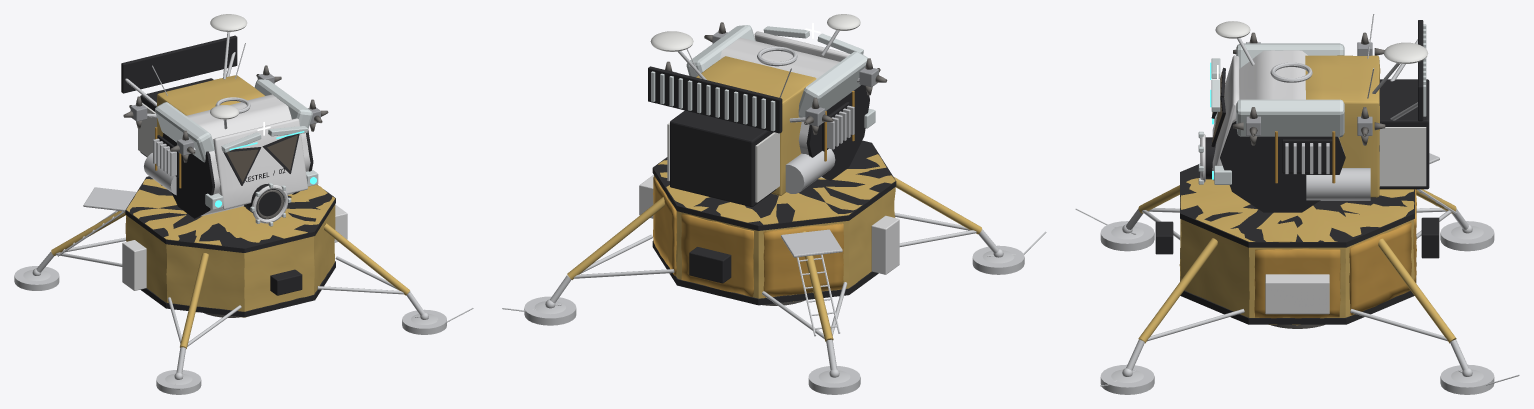
Rendered from kestrel.glb.
3 views of the same model, side by side, from view 1: azimuth 30°, elevation 25°; view 2: azimuth 150°, elevation 25°; view 3: azimuth 270°, elevation 25° (orthographic). The views are drawn at different scales.
Parts seen in each view (by area): view 1: descent_core, front_face, descent_band_top, radiator_rack, crew_cylinder, midsection, crew_endcap_-1, ceramic_shoulder_-1, descent_band_bottom, descent_water_tank, porch, ceramic_shoulder_1 (+14 smaller); view 2: descent_core, aft_bay, descent_band_top, midsection, descent_blanket_3, descent_blanket_2, radiator_rack, crew_cylinder, ceramic_shoulder_-1, crew_endcap_-1, descent_blanket_1, descent_water_tank (+16 smaller); view 3: descent_core, midsection, crew_endcap_+1, descent_band_top, descent_blanket_1, ceramic_shoulder_1, descent_blanket_0, aft_radiator_+1, crew_cylinder, descent_pallet, aft_bay, rcs_tank_+1 (+19 smaller).
Boxes of the visible parts, x1,y1,x2,y2 form: descent_core: [126, 179, 335, 317]; front_face: [213, 118, 307, 209]; descent_band_top: [125, 176, 335, 252]; radiator_rack: [121, 35, 237, 93]; crew_cylinder: [186, 94, 310, 216]; midsection: [157, 75, 264, 136]; crew_endcap_-1: [162, 133, 214, 218]; ceramic_shoulder_-1: [155, 102, 214, 162]; descent_band_bottom: [140, 261, 335, 317]; descent_water_tank: [122, 240, 146, 290]; porch: [83, 187, 136, 211]; ceramic_shoulder_1: [254, 79, 312, 129]; descent_core: [654, 154, 895, 301]; aft_bay: [670, 110, 776, 206]; descent_band_top: [652, 140, 896, 230]; midsection: [696, 56, 816, 195]; descent_blanket_3: [763, 223, 843, 297]; descent_blanket_2: [681, 213, 753, 296]; radiator_rack: [648, 66, 782, 133]; crew_cylinder: [719, 37, 839, 178]; ceramic_shoulder_-1: [798, 51, 867, 117]; crew_endcap_-1: [806, 85, 869, 180]; descent_blanket_1: [653, 177, 676, 275]; descent_water_tank: [871, 215, 899, 274]; descent_core: [1179, 178, 1414, 325]; midsection: [1305, 55, 1380, 197]; crew_endcap_+1: [1220, 121, 1345, 212]; descent_band_top: [1180, 164, 1414, 247]; descent_blanket_1: [1349, 222, 1411, 315]; ceramic_shoulder_1: [1236, 99, 1344, 137]; descent_blanket_0: [1254, 248, 1340, 318]; aft_radiator_+1: [1379, 127, 1426, 186]; crew_cylinder: [1221, 50, 1344, 153]; descent_pallet: [1265, 274, 1329, 314]; aft_bay: [1379, 79, 1429, 189]; rcs_tank_+1: [1306, 168, 1370, 200].
Bounding box in the file's own units: 8.95 × 6.88 × 9.47.
